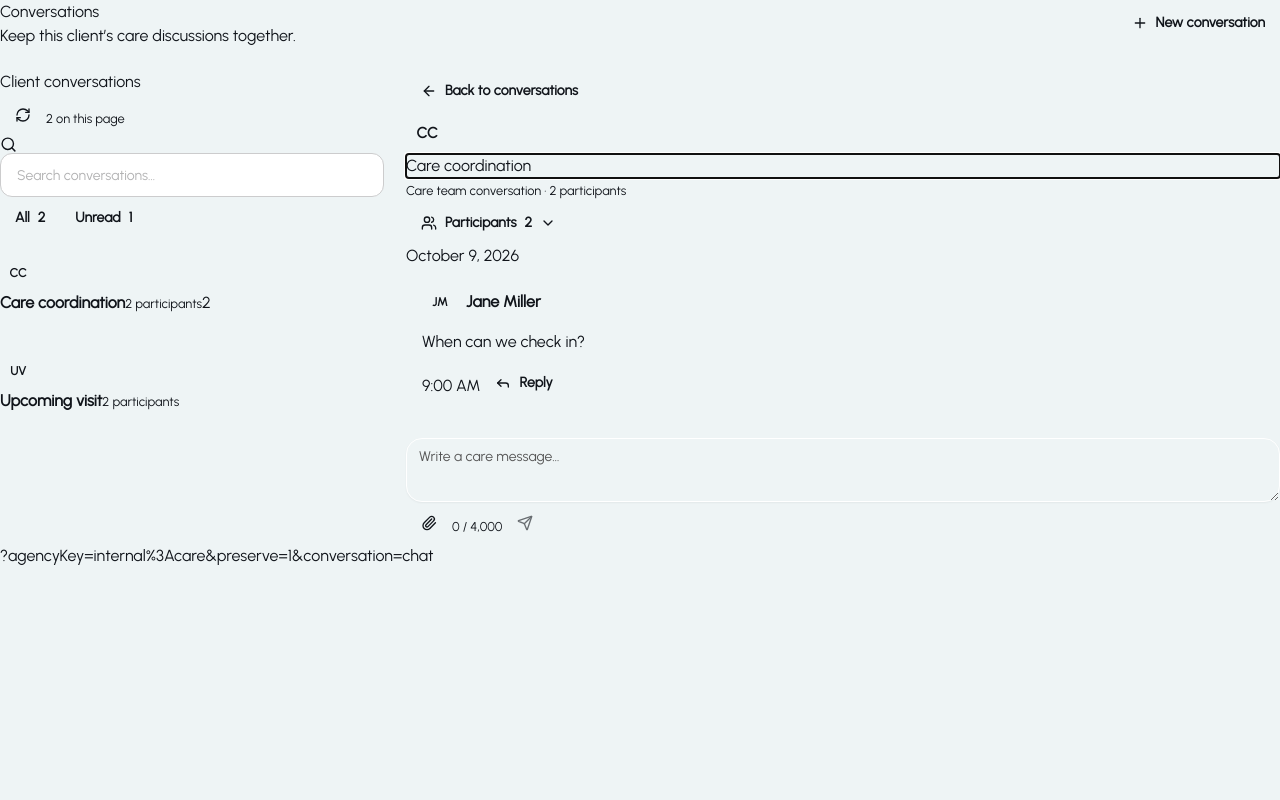
Test: opens the participant roster and returns focus on Escape without losing the message draft
The image size is (1280, 800).
Expected: the text "When can we check in?" is shown, [422,332,585,351]
Type "A draft to keep." into the text box labelled "message". click: (843, 470)
box: [406,438,1279,502]
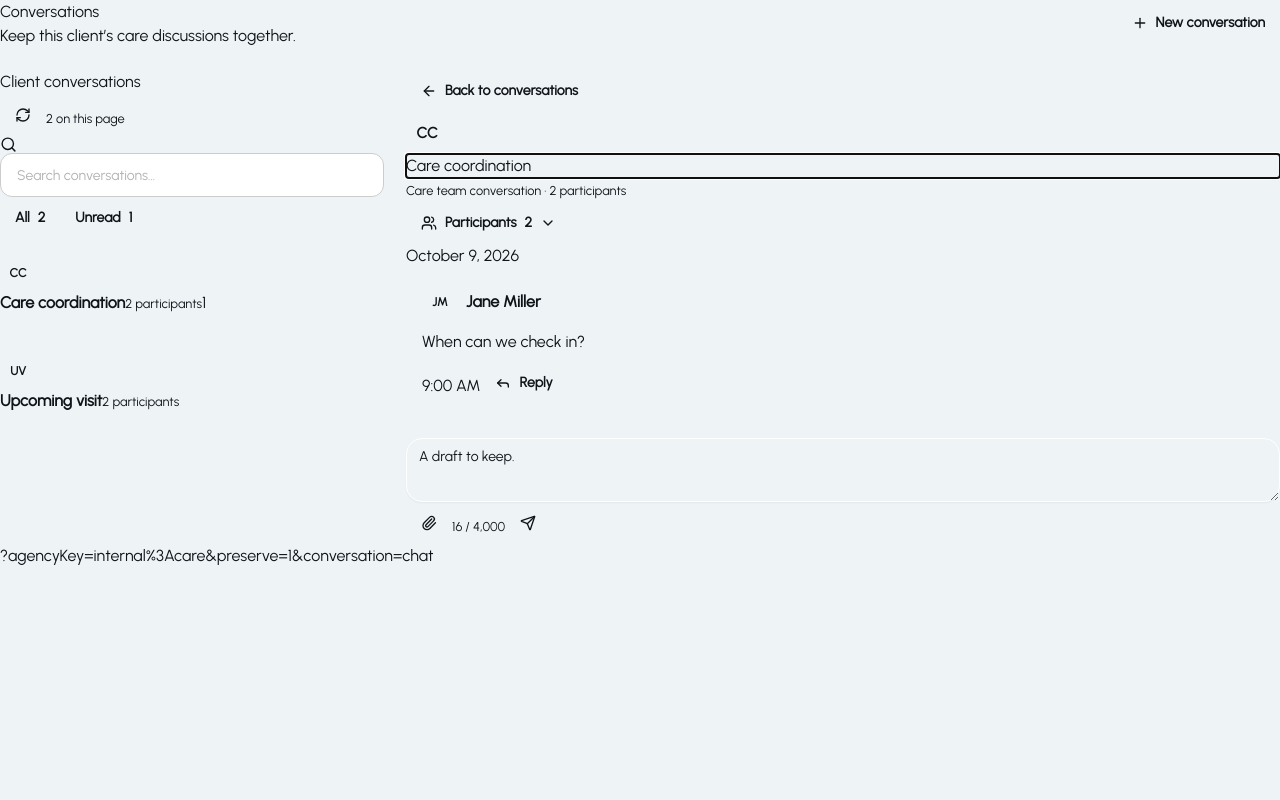
Click the button with aria-label "View 2 conversation participants". click: (489, 223)
box: [406,202,571,244]
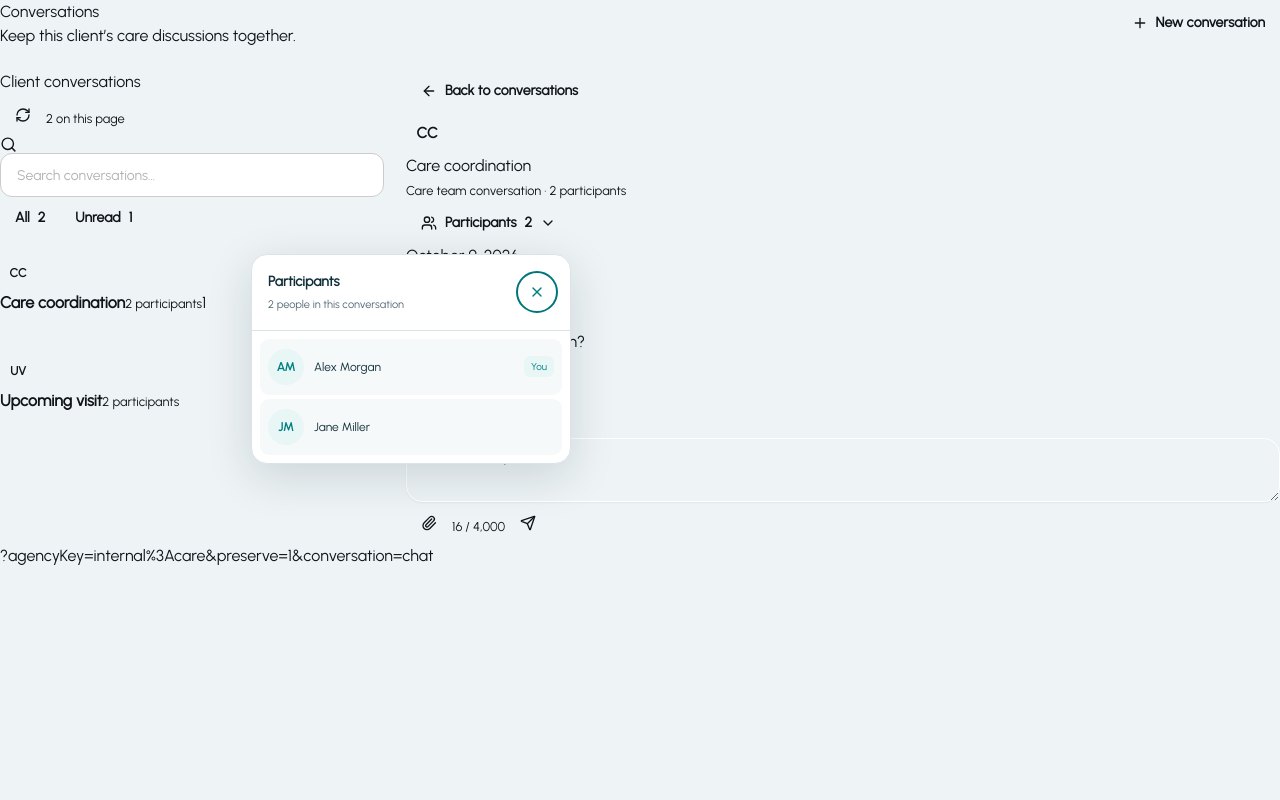
Result: the text "Alex Morgan" is shown at [314,358,381,376]
Result: the text "Jane Miller" is shown at [314,418,370,436]
Result: the text "You" is shown at [524,356,554,377]
Press Escape
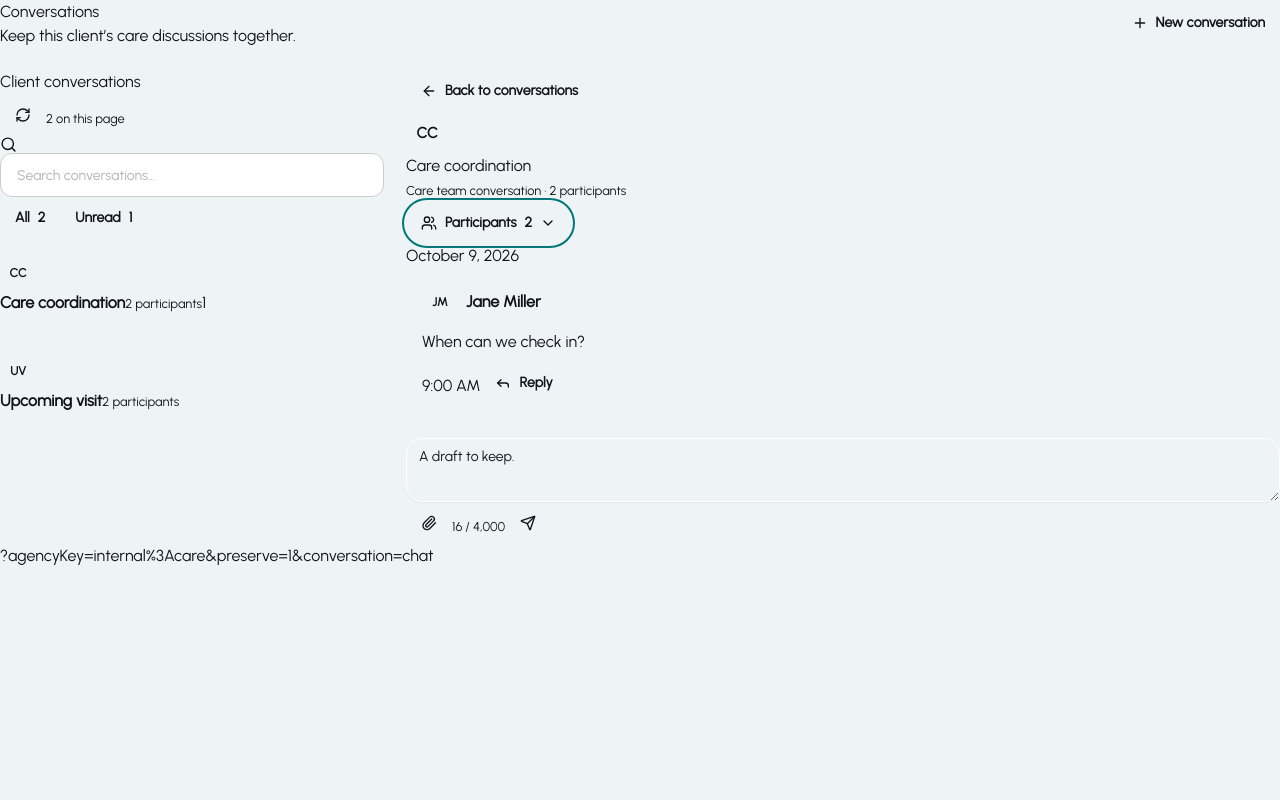
Result: the button with aria-label "View 2 conversation participants" is collapsed at [406,202,571,244]
